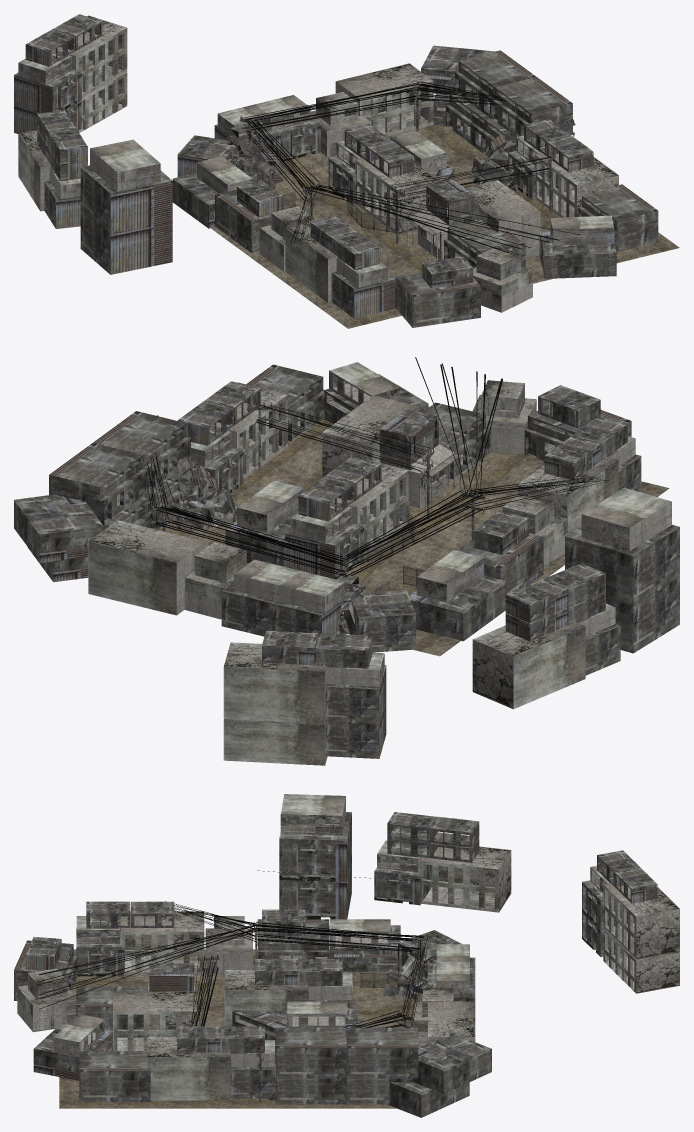
File: abandoned_city_street_for_games.glb
The picture shows the model from 3 angles, top to bottom: view 1: azimuth 30°, elevation 25°; view 2: azimuth 150°, elevation 25°; view 3: azimuth 270°, elevation 25°; orthographic projection. The views are drawn at different scales.
Visible parts, largest first — view 1: Cube.001_Material.003_0_Material.003, Cube_Material.001_0_Material.001, Plane.002_Material.007_0_Material.007, object 5, Plane_Material.006_0_Material.006; view 2: Cube.001_Material.003_0_Material.003, Cube_Material.001_0_Material.001, Plane.002_Material.007_0_Material.007, object 5, Plane_Material.006_0_Material.006; view 3: Cube.001_Material.003_0_Material.003, Cube_Material.001_0_Material.001, Plane.002_Material.007_0_Material.007, object 5, Plane_Material.006_0_Material.006.
Part boxes in pixels (bbox=[...]): Cube.001_Material.003_0_Material.003: bbox=[14, 14, 658, 327]; Cube_Material.001_0_Material.001: bbox=[18, 15, 618, 312]; Plane.002_Material.007_0_Material.007: bbox=[211, 125, 679, 328]; object 5: bbox=[173, 81, 580, 252]; Plane_Material.006_0_Material.006: bbox=[242, 166, 399, 233]; Cube.001_Material.003_0_Material.003: bbox=[14, 364, 679, 758]; Cube_Material.001_0_Material.001: bbox=[88, 362, 671, 765]; Plane.002_Material.007_0_Material.007: bbox=[159, 418, 669, 656]; object 5: bbox=[146, 357, 608, 593]; Plane_Material.006_0_Material.006: bbox=[352, 507, 424, 592]; Cube.001_Material.003_0_Material.003: bbox=[14, 812, 657, 1117]; Cube_Material.001_0_Material.001: bbox=[17, 794, 679, 1100]; Plane.002_Material.007_0_Material.007: bbox=[59, 949, 421, 1108]; object 5: bbox=[37, 870, 427, 1039]; Plane_Material.006_0_Material.006: bbox=[224, 963, 401, 1013].
Size of the model in its own units: 36.41 by 8.09 by 44.8.
5 materials, 4 textured.
